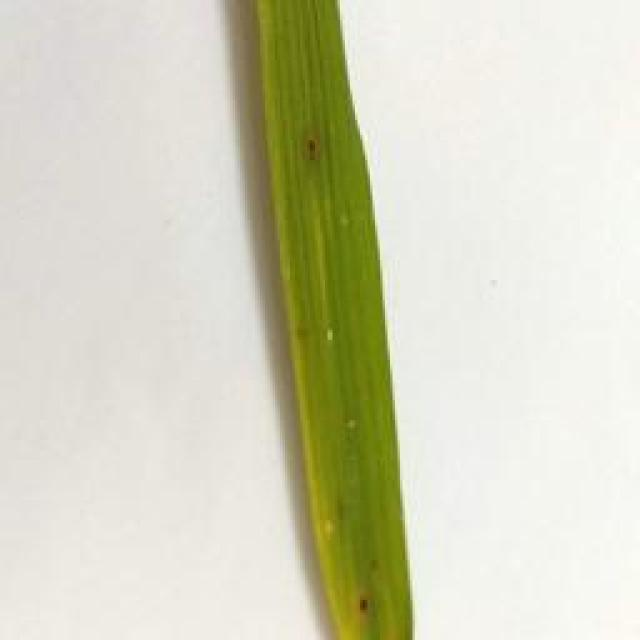Brown_Spot: (353, 589, 373, 619), (302, 128, 316, 162)
